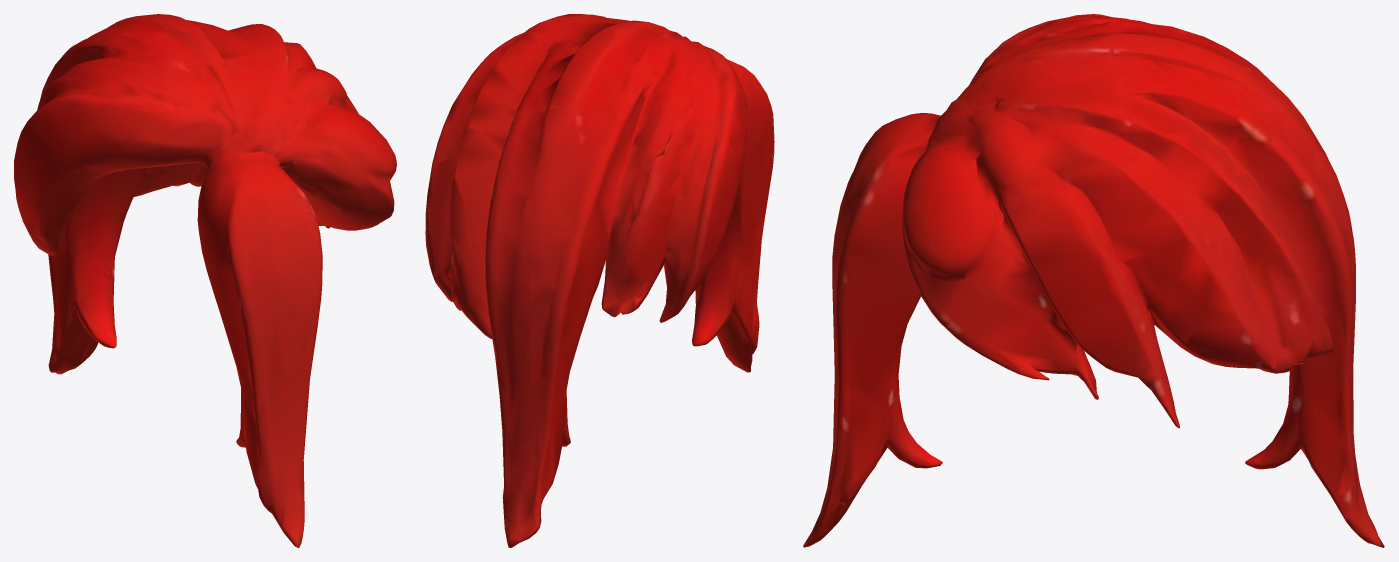
Rendered from E003HikaruHair.glb.
3 renders of one model, left to right at view 1: azimuth 30°, elevation 25°; view 2: azimuth 150°, elevation 25°; view 3: azimuth 270°, elevation 25°, orthographic. The views are drawn at different scales.
Parts seen in each view (by area): view 1: tripo_node_31effc2e-0fd7-466b-a7d1-ad20059cd9f8; view 2: tripo_node_31effc2e-0fd7-466b-a7d1-ad20059cd9f8; view 3: tripo_node_31effc2e-0fd7-466b-a7d1-ad20059cd9f8.
Boxes of the visible parts, bbox=[...] form: tripo_node_31effc2e-0fd7-466b-a7d1-ad20059cd9f8: bbox=[14, 14, 396, 547]; tripo_node_31effc2e-0fd7-466b-a7d1-ad20059cd9f8: bbox=[425, 14, 774, 547]; tripo_node_31effc2e-0fd7-466b-a7d1-ad20059cd9f8: bbox=[803, 14, 1384, 547].
Size of the model in its own units: 0.6619 by 0.9314 by 0.9484.
Materials: 1 (1 with a texture image).
